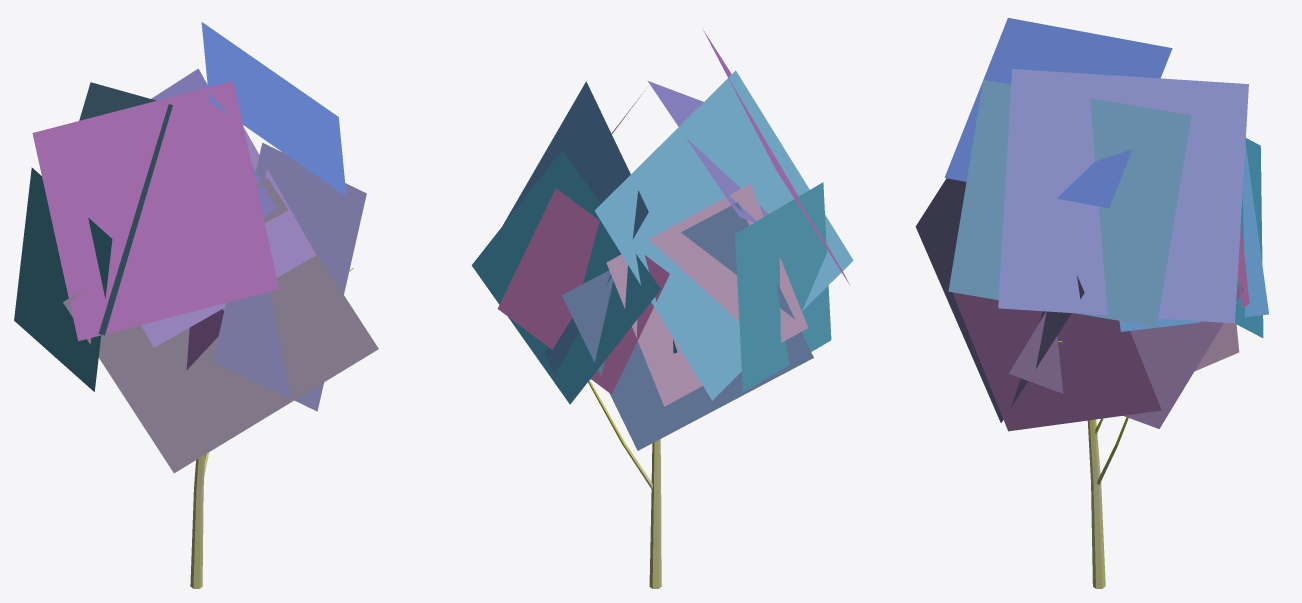
File: tree_birch_2.glb
The picture shows the model from 3 angles, left to right: view 1: azimuth 30°, elevation 25°; view 2: azimuth 150°, elevation 25°; view 3: azimuth 270°, elevation 25°; orthographic projection. The views are drawn at different scales.
Visible parts, largest first — view 1: tree_birch_2; view 2: tree_birch_2; view 3: tree_birch_2.
Boxes of the visible parts, <box> form: tree_birch_2: <box>14,22,378,588</box>; tree_birch_2: <box>471,30,853,588</box>; tree_birch_2: <box>915,18,1268,588</box>.
Size of the model in its own units: 7.62 by 11.72 by 7.6.
